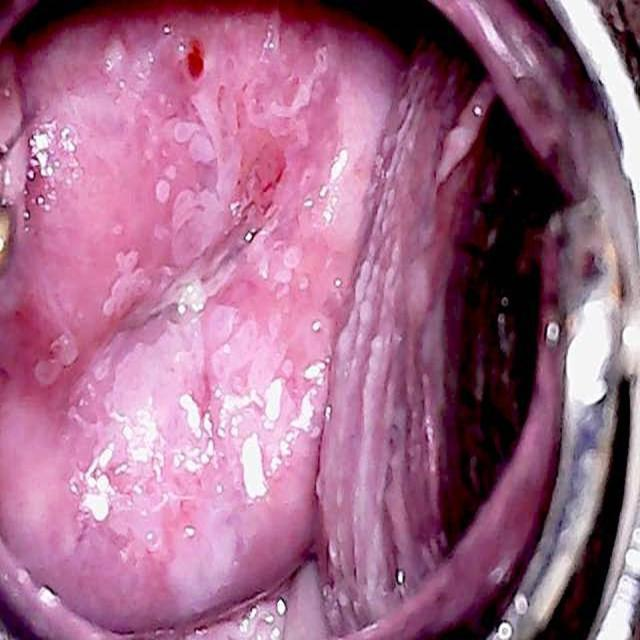cervical_lesion: (0, 0, 384, 640)
